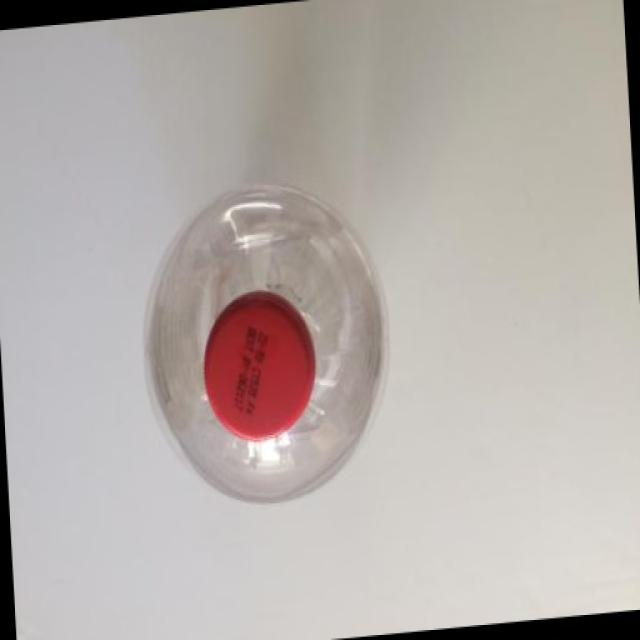plastico: (136, 165, 402, 532)
